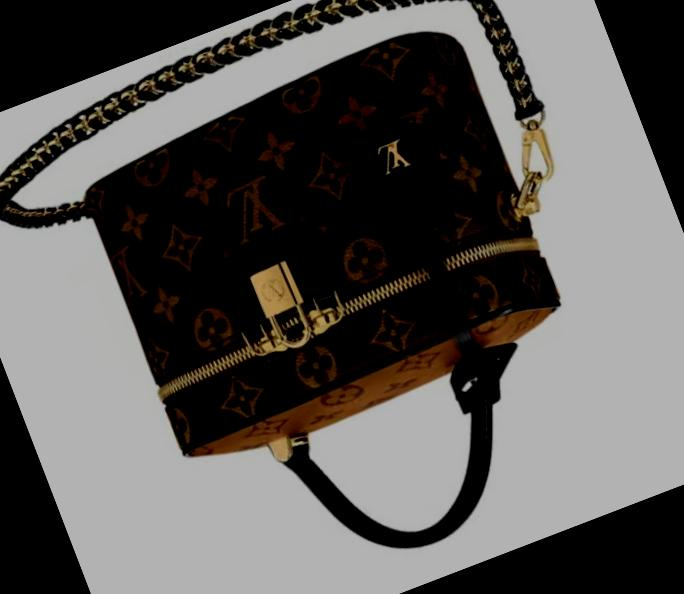LOUIS-VUITTON: (68, 17, 570, 476)
